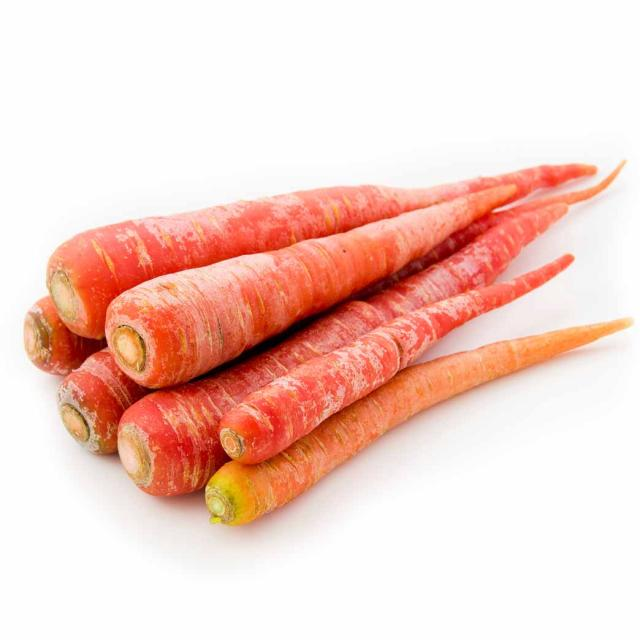Fresh_Carrot: (130, 210, 491, 275)
